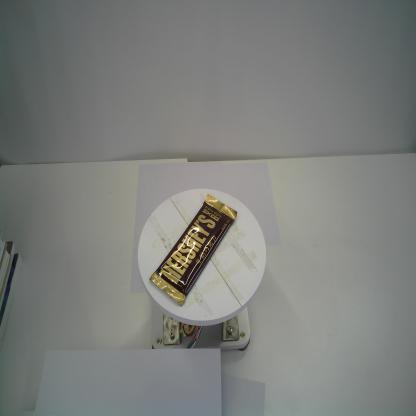Chocolate: (148, 191, 238, 308)
